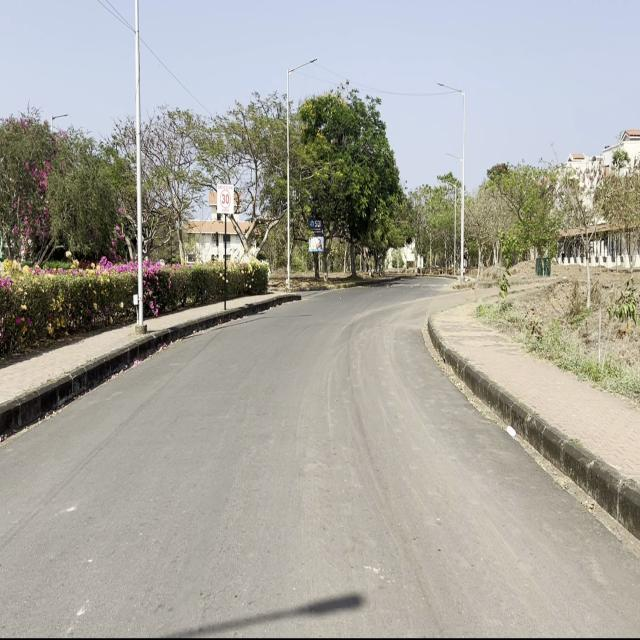Road: (2, 280, 638, 636)
